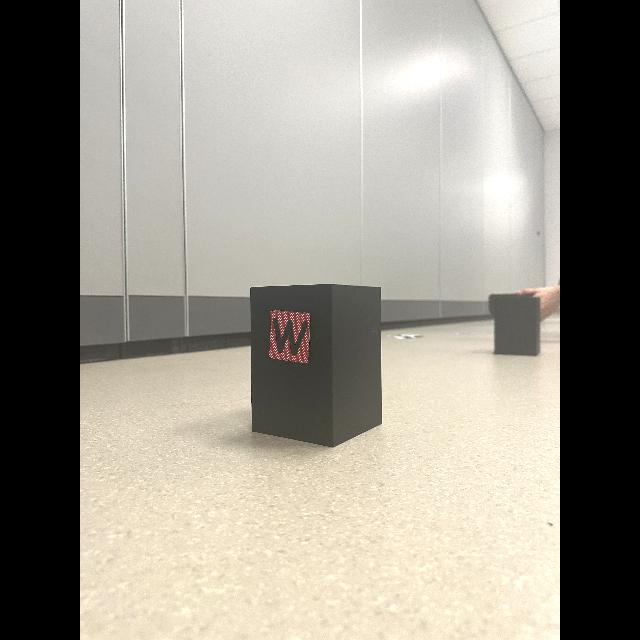W: (273, 317, 308, 356)
